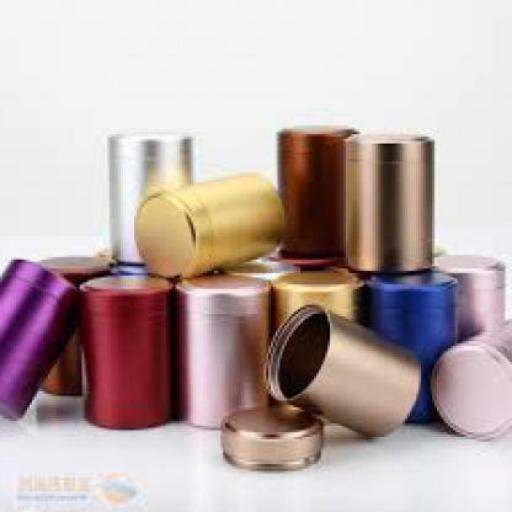metal: (268, 303, 428, 434), (137, 173, 289, 277), (177, 272, 276, 428), (369, 268, 462, 424), (82, 273, 173, 430), (274, 269, 364, 414), (2, 255, 80, 418), (348, 134, 434, 271), (112, 132, 191, 264), (40, 258, 110, 396), (434, 314, 511, 438), (284, 125, 357, 255), (224, 408, 326, 466), (434, 257, 506, 335), (227, 257, 299, 277)
